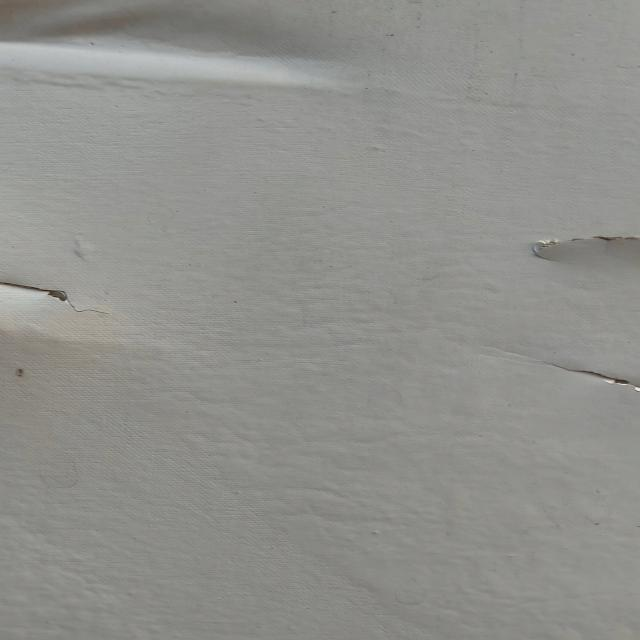Dents or Deformation: (1, 1, 352, 101)
Scratches: (1, 273, 131, 339), (524, 349, 640, 405), (520, 223, 640, 265)
